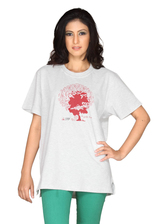clothoes: (27, 60, 147, 201)
